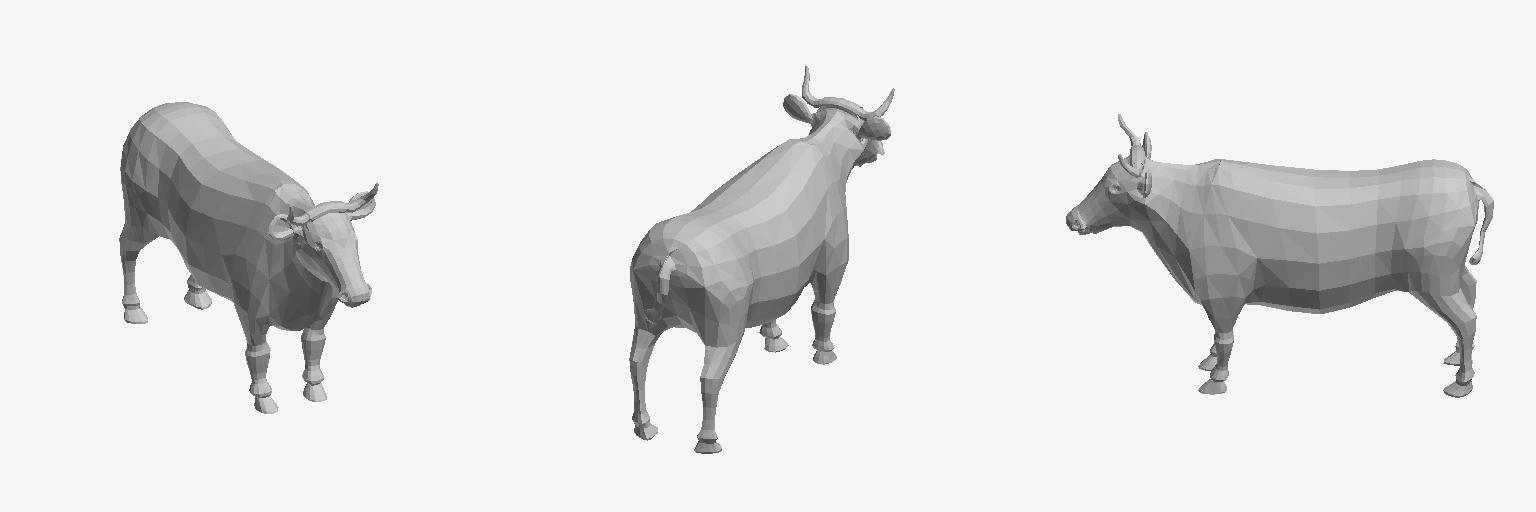
Rendered from cowObj.obj.
3 renders of one model, left to right at view 1: azimuth 30°, elevation 25°; view 2: azimuth 150°, elevation 25°; view 3: azimuth 270°, elevation 25°, orthographic.
Visible parts, largest first — view 1: Cube; view 2: Cube; view 3: Cube.
Boxes of the visible parts, x1=… form: Cube: x1=119, y1=102, x2=378, y2=413; Cube: x1=629, y1=65, x2=894, y2=453; Cube: x1=1066, y1=114, x2=1493, y2=397.
Bounding box in the file's own units: 0.9027 × 1.89 × 3.